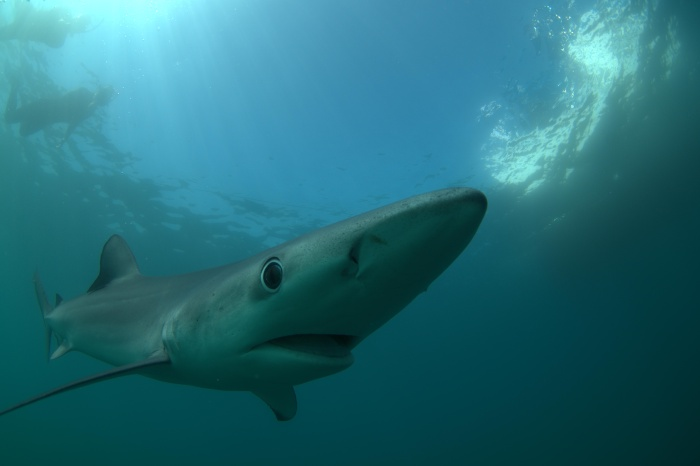Azul: (1, 165, 528, 449)
